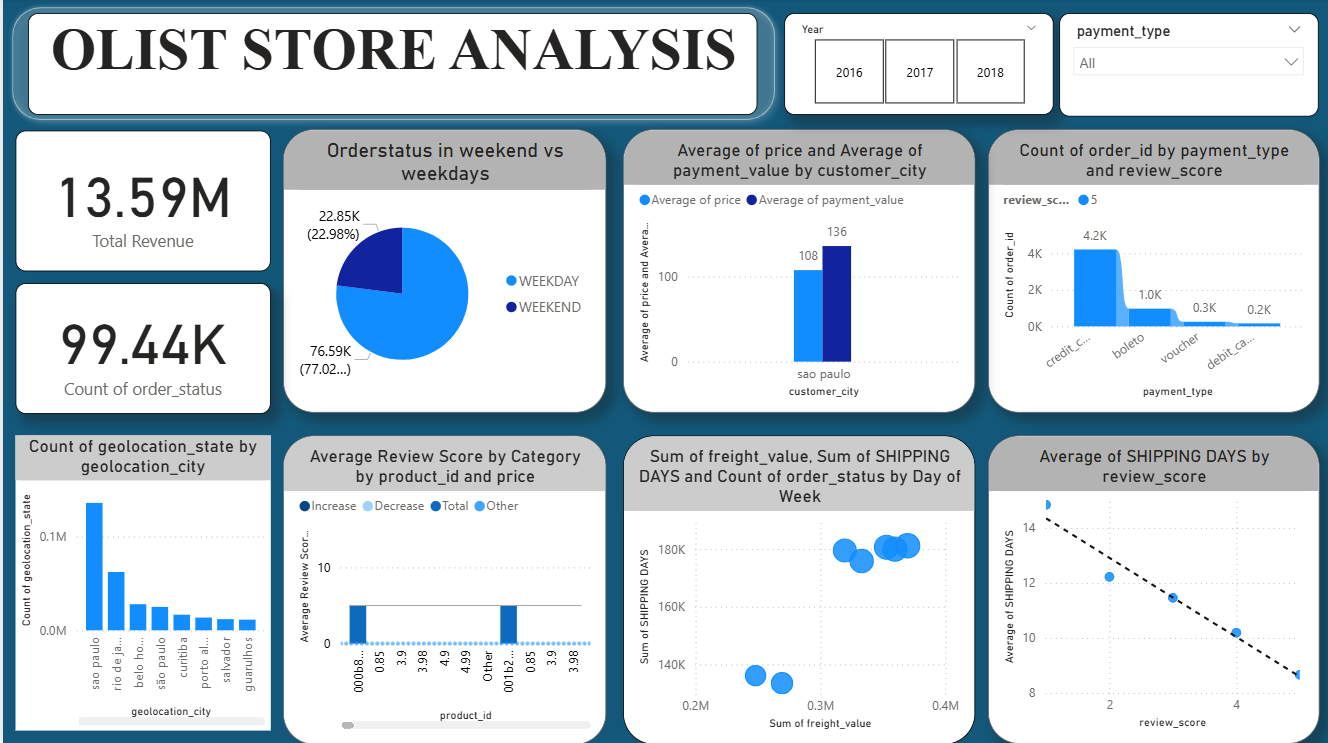

This screenshot's page, from the dashboard's own definition file:
{"tool":"powerbi","page":{"name":"Dashboard-1","canvas":[1280,720],"ordinal":0},"visuals":[{"type":"pieChart","title":"Orderstatus in weekend vs weekdays","fields":{"Category":["olist_orders_dataset.WEEKEND & WEEKDAY"],"Y":["CountNonNull(olist_orders_dataset.order_status)"]},"box":[270.2,127.2,311.8,273.9],"z":0},{"type":"columnChart","fields":{"Category":["olist_order_payments_dataset.payment_type"],"Y":["CountNonNull(olist_order_payments_dataset.order_id)"],"Series":["olist_order_reviews_dataset.review_score"]},"box":[950.7,126.7,319.7,273.9],"z":1000},{"type":"clusteredColumnChart","fields":{"Category":["olist_customers_dataset.customer_city"],"Y":["Avg(olist_order_items_dataset.price)","Avg(olist_order_payments_dataset.payment_value)"]},"box":[598,127.2,339.9,273.9],"z":2000},{"type":"scatterChart","fields":{"Y":["Avg(olist_orders_dataset.SHIPPING DAYS)"],"X":["olist_order_reviews_dataset.review_score"]},"box":[950.7,422.3,319.7,298],"z":3000},{"type":"slicer","fields":{"Values":["olist_orders_dataset.order_purchase_timestamp.Variation.Date Hierarchy.Year"]},"box":[754.1,14.1,259.9,98.6],"z":4000},{"type":"card","fields":{"Values":["CountNonNull(olist_orders_dataset.order_status)"]},"box":[12.5,275,246.2,126.2],"z":5000},{"type":"shape","box":[0,0,754.1,126.7],"z":6000},{"type":"textbox","title":"OLIST STORE ANALYSIS","box":[24.3,14.1,704.1,98.6],"z":7000},{"type":"card","fields":{"Values":["olist_customers_dataset.Total Revenue"]},"box":[12.5,127.5,246.2,136.2],"z":8000},{"type":"slicer","fields":{"Values":["olist_order_payments_dataset.payment_type"]},"box":[1020,14.3,250,100],"z":9000},{"type":"waterfallChart","fields":{"Y":["olist_customers_dataset.Average Review Score by Category"],"Category":["olist_order_items_dataset.product_id"],"Breakdown":["olist_order_items_dataset.price"]},"box":[270.2,421.9,311.8,298.4],"z":10000},{"type":"scatterChart","fields":{"Category":["olist_orders_dataset.Day of Week"],"X":["Sum(olist_order_items_dataset.freight_value)"],"Y":["Sum(olist_orders_dataset.SHIPPING DAYS)"],"Size":["CountNonNull(olist_orders_dataset.order_status)"]},"box":[598,421.9,339.9,298.4],"z":11000},{"type":"columnChart","fields":{"Category":["olist_geolocation_dataset.geolocation_city"],"Y":["CountNonNull(olist_geolocation_dataset.geolocation_state)"]},"box":[12.5,422.5,246.2,285],"z":12000}]}

Visuals, with their boxes in screenshot pixels (x1, y1, x2, y2), scaled from the page's 1280x720 canvas onto the 1328x743 screenshot:
"Orderstatus in weekend vs weekdays" pieChart: <box>280,131,604,414</box>
columnChart - olist_order_payments_dataset.payment_type x CountNonNull(olist_order_payments_dataset.order_id): <box>986,131,1318,413</box>
clusteredColumnChart - olist_customers_dataset.customer_city x Avg(olist_order_items_dataset.price): <box>620,131,973,414</box>
scatterChart - Avg(olist_orders_dataset.SHIPPING DAYS) x olist_order_reviews_dataset.review_score: <box>986,436,1318,742</box>
slicer - olist_orders_dataset.order_purchase_timestamp.Variation.Date Hierarchy.Year: <box>782,15,1052,116</box>
card - CountNonNull(olist_orders_dataset.order_status): <box>13,284,268,414</box>
shape: <box>0,0,782,131</box>
"OLIST STORE ANALYSIS" textbox: <box>25,15,756,116</box>
card - olist_customers_dataset.Total Revenue: <box>13,132,268,272</box>
slicer - olist_order_payments_dataset.payment_type: <box>1058,15,1318,118</box>
waterfallChart - olist_customers_dataset.Average Review Score by Category x olist_order_items_dataset.product_id: <box>280,435,604,742</box>
scatterChart - olist_orders_dataset.Day of Week x Sum(olist_order_items_dataset.freight_value): <box>620,435,973,742</box>
columnChart - olist_geolocation_dataset.geolocation_city x CountNonNull(olist_geolocation_dataset.geolocation_state): <box>13,436,268,730</box>
